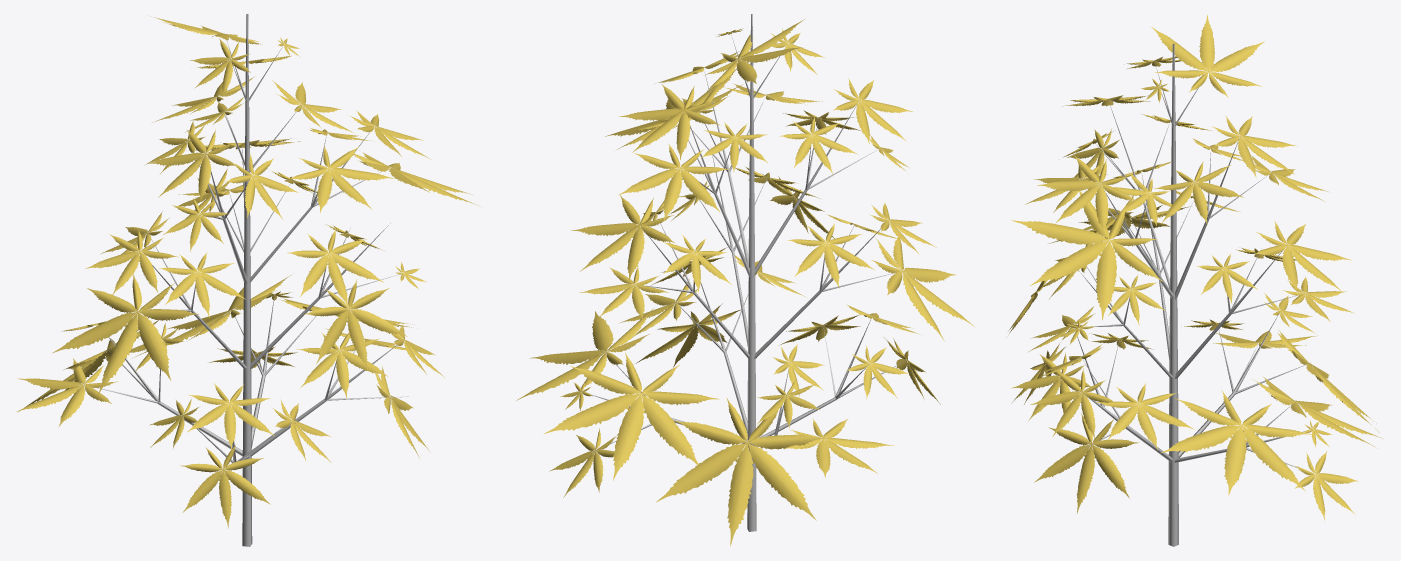
File: marijuanna.obj
3 renders of one model, left to right at view 1: azimuth 30°, elevation 25°; view 2: azimuth 150°, elevation 25°; view 3: azimuth 270°, elevation 25°, orthographic. The views are drawn at different scales.
Visible parts, largest first — view 1: Cannabis; view 2: Cannabis; view 3: Cannabis.
Boxes of the visible parts, left/top/right/bottom form: Cannabis: left=16, top=14, right=478, bottom=546; Cannabis: left=516, top=14, right=974, bottom=546; Cannabis: left=1009, top=15, right=1382, bottom=546.
Size of the model in its own units: 94.28 by 120 by 83.09.
